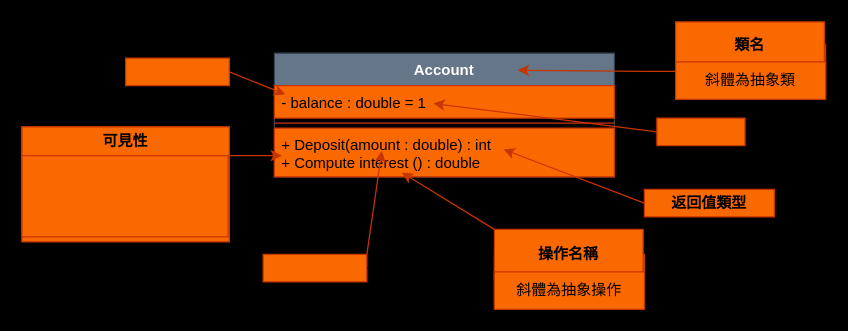
Image size: 848x331. Some labels were removed from this diagram. Here are the shapes that lost their labels. From the top down, the box of each, then its label:
(124, 57, 229, 86): 屬性名稱
(656, 117, 745, 146): 省缺值
(21, 154, 228, 237): -代表private +代表public #代表protected 也可以使用圖形表示
(262, 253, 367, 282): 參數列表
